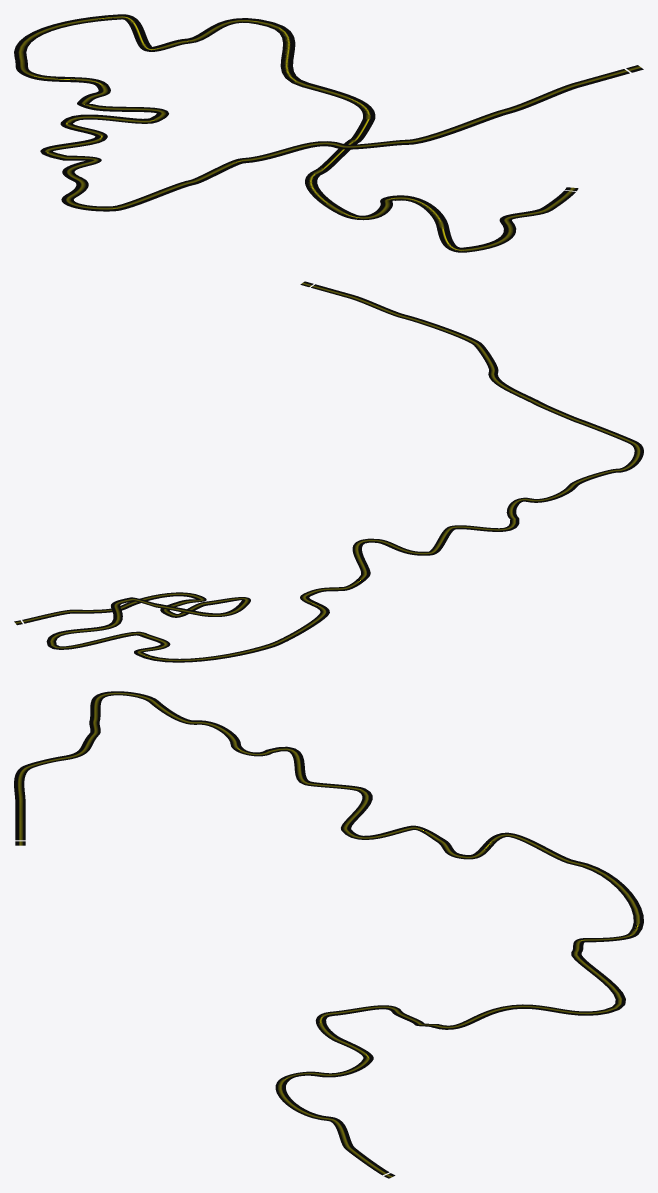
3 renders of one model, top to bottom at view 1: azimuth 30°, elevation 25°; view 2: azimuth 150°, elevation 25°; view 3: azimuth 270°, elevation 25°, orthographic. The views are drawn at different scales.
Visible parts, largest first — view 1: Road; view 2: Road; view 3: Road.
Part boxes in pixels (x1,y1,x2,y2): Road: (14,14,643,252); Road: (14,281,643,662); Road: (14,691,643,1178).
Size of the model in its own units: 9642 by 4446 by 9452.
1 material, 1 textured.
